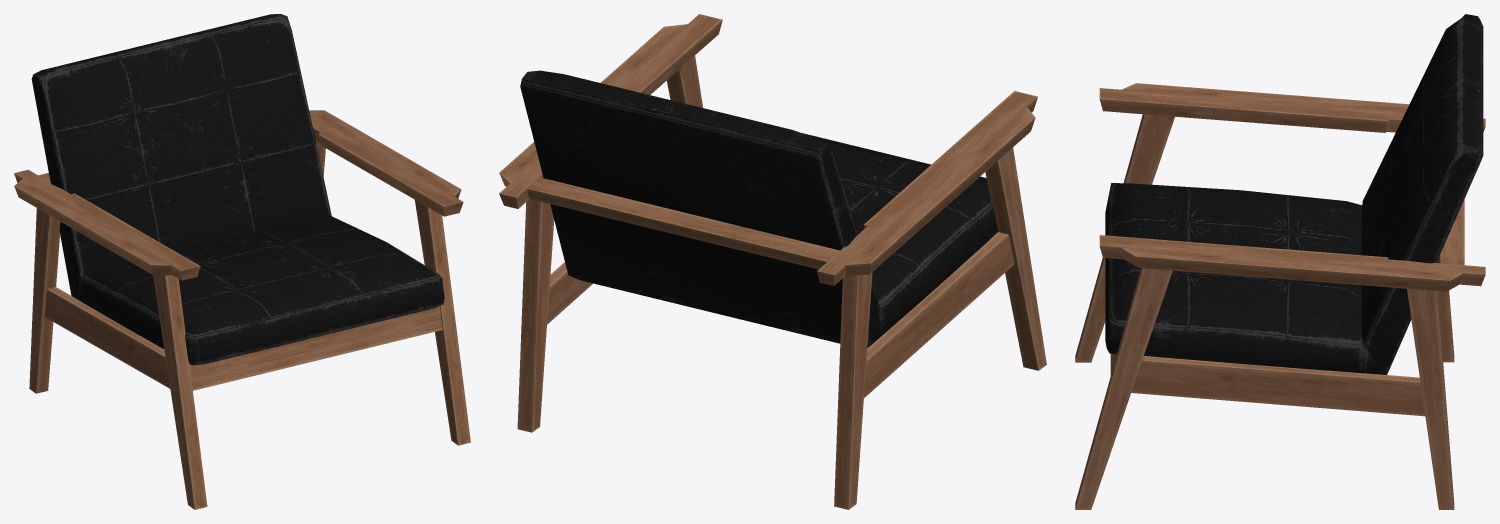
Rendered from chair.glb.
3 views of the same model, side by side, from view 1: azimuth 30°, elevation 25°; view 2: azimuth 150°, elevation 25°; view 3: azimuth 270°, elevation 25° (orthographic). The views are drawn at different scales.
Parts seen in each view (by area): view 1: Object_2; view 2: Object_2; view 3: Object_2.
Boxes of the visible parts, x1,y1,x2,y2 form: Object_2: [14, 14, 470, 509]; Object_2: [499, 14, 1046, 509]; Object_2: [1075, 14, 1485, 509].
Size of the model in its own units: 70.21 by 66.95 by 70.22.
Materials: 1 (1 with a texture image).
